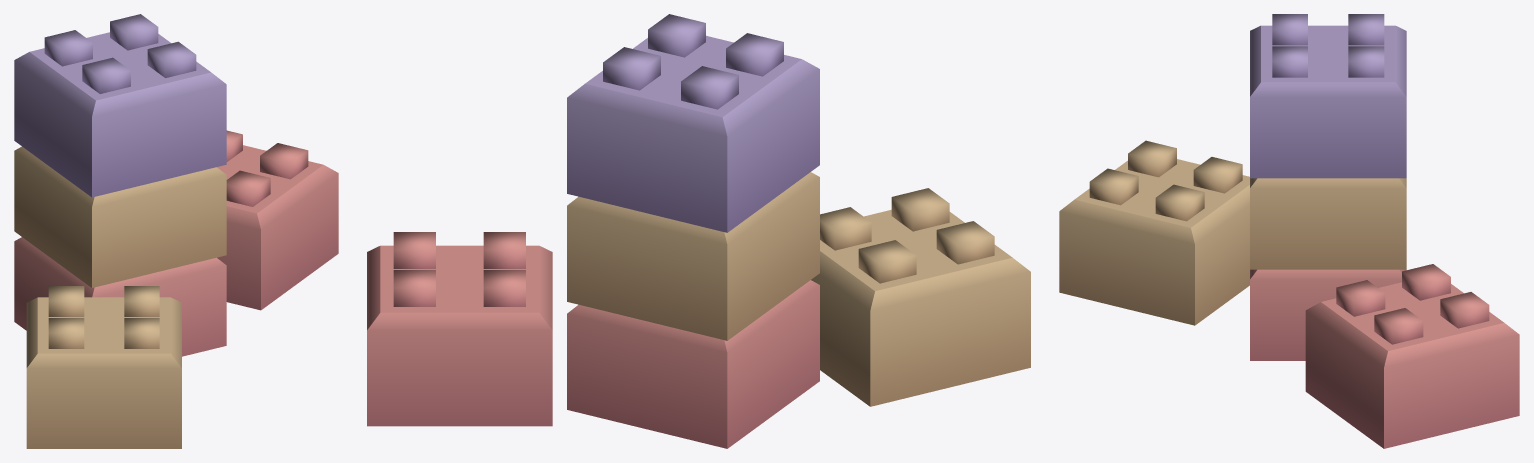
File: toy-brick-stack.glb
3 renders of one model, left to right at view 1: azimuth 30°, elevation 25°; view 2: azimuth 150°, elevation 25°; view 3: azimuth 270°, elevation 25°, orthographic. The views are drawn at different scales.
Parts seen in each view (by area): view 1: toy-brick-stack; view 2: toy-brick-stack; view 3: toy-brick-stack.
Boxes of the visible parts, box(x1,y1,x2,y2) form: toy-brick-stack: box(14, 14, 338, 448); toy-brick-stack: box(367, 14, 1030, 448); toy-brick-stack: box(1059, 14, 1519, 448).
Bounding box in the file's own units: 0.2259 × 0.143 × 0.2056.
